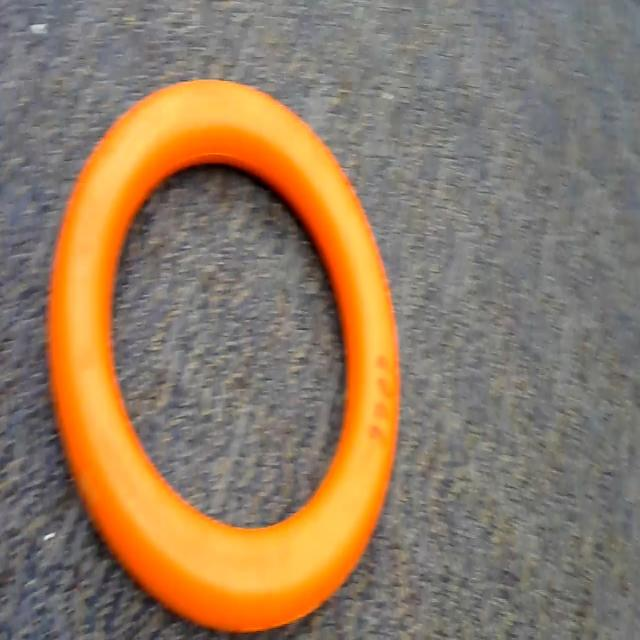note: (8, 70, 417, 640)
